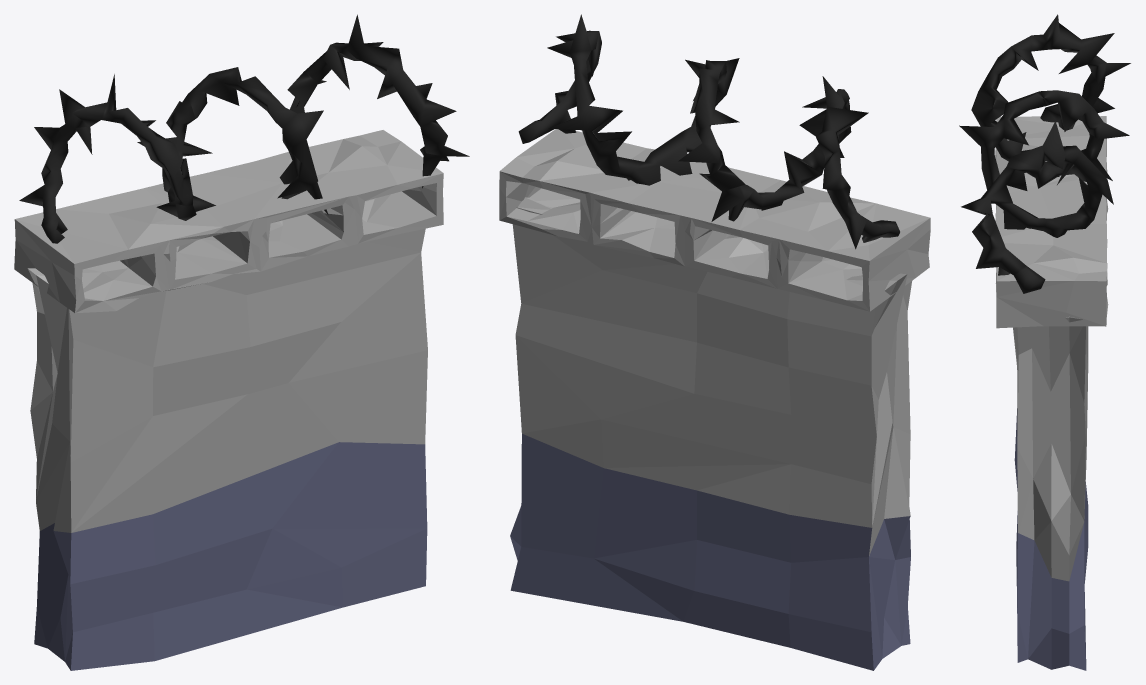
File: iron_fence.fbx
3 views of the same model, side by side, from view 1: azimuth 30°, elevation 25°; view 2: azimuth 150°, elevation 25°; view 3: azimuth 270°, elevation 25° (orthographic). The views are drawn at different scales.
Visible parts, largest first — view 1: iron_fence; view 2: iron_fence; view 3: iron_fence.
Boxes of the visible parts, left/top/right/bottom form: iron_fence: left=14, top=14, right=469, bottom=670; iron_fence: left=499, top=14, right=930, bottom=670; iron_fence: left=959, top=14, right=1130, bottom=670.
Size of the model in its own units: 212 by 294 by 87.15.
